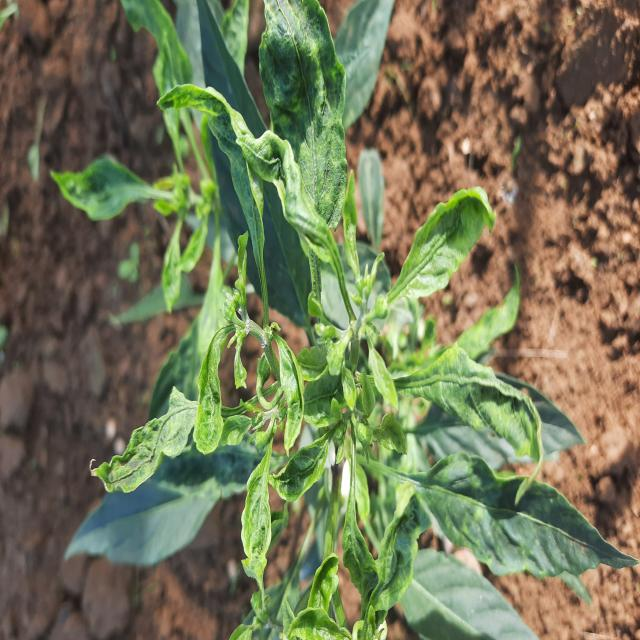thrips: (396, 181, 511, 297), (82, 390, 204, 495), (295, 549, 347, 619)
